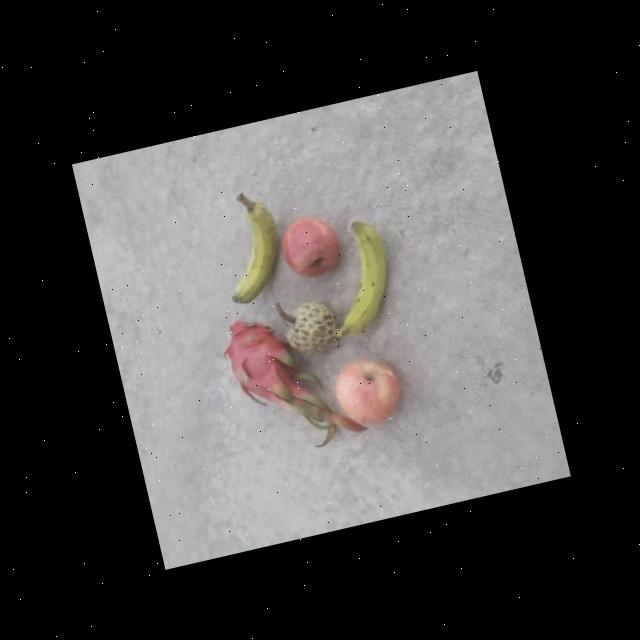Sakya fruit: (277, 294, 340, 358)
apple: (326, 346, 408, 436)
banana: (316, 211, 402, 338), (213, 196, 290, 303), (272, 201, 349, 286)
pitaya: (218, 308, 294, 406)
